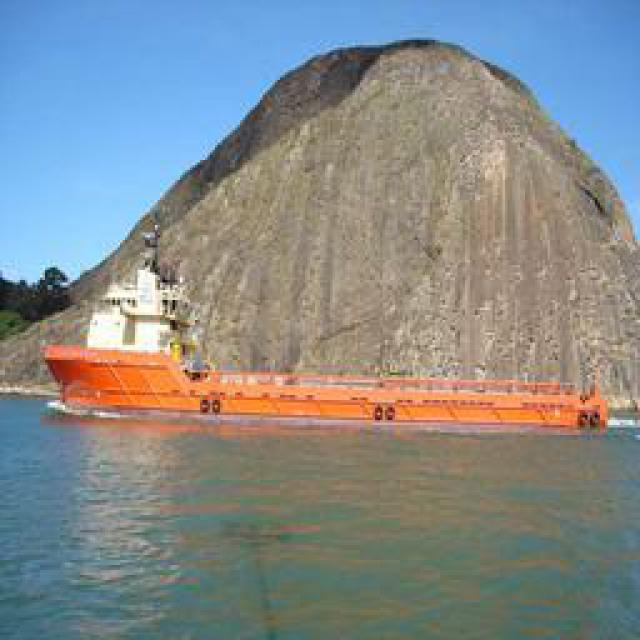Ship: (34, 260, 621, 437)
